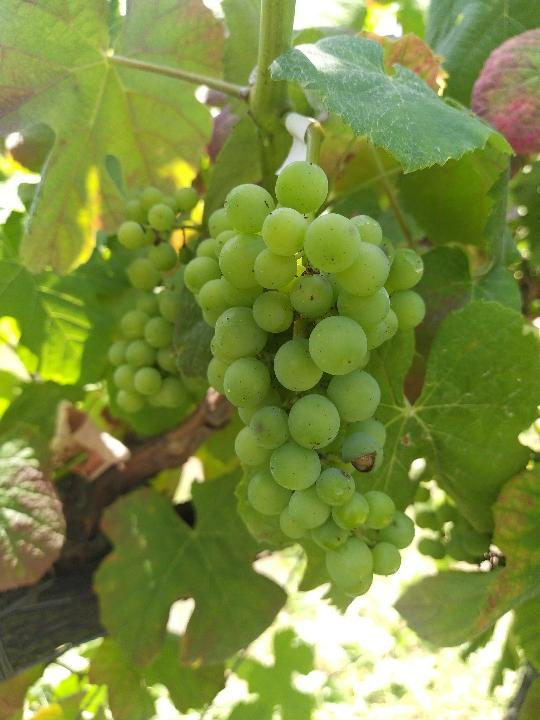grape: (183, 156, 431, 605)
